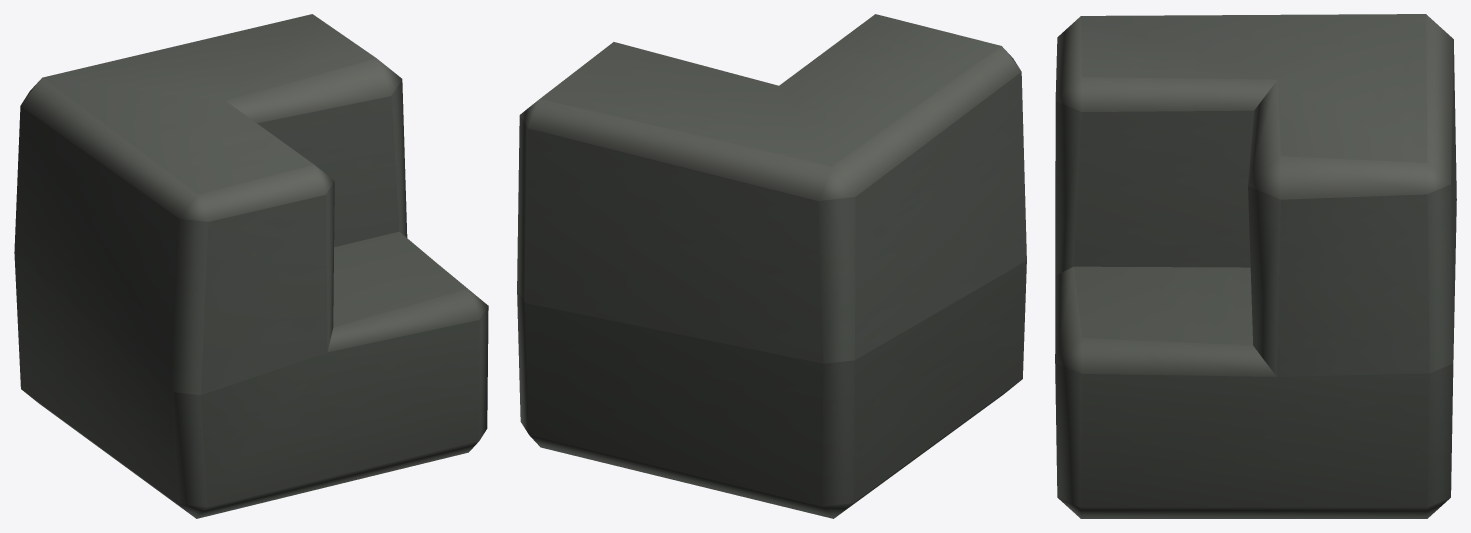
Rendered from stair_corner_conc_shade_4.fbx.
3 renders of one model, left to right at view 1: azimuth 30°, elevation 25°; view 2: azimuth 150°, elevation 25°; view 3: azimuth 270°, elevation 25°, orthographic. The views are drawn at different scales.
Visible parts, largest first — view 1: stair_corner_conc_shade_4; view 2: stair_corner_conc_shade_4; view 3: stair_corner_conc_shade_4.
Part boxes in pixels (x1,y1,x2,y2): stair_corner_conc_shade_4: [14, 14, 488, 518]; stair_corner_conc_shade_4: [517, 14, 1026, 518]; stair_corner_conc_shade_4: [1055, 14, 1456, 518].
Bounding box in the file's own units: 52.26 × 50.74 × 51.02.
